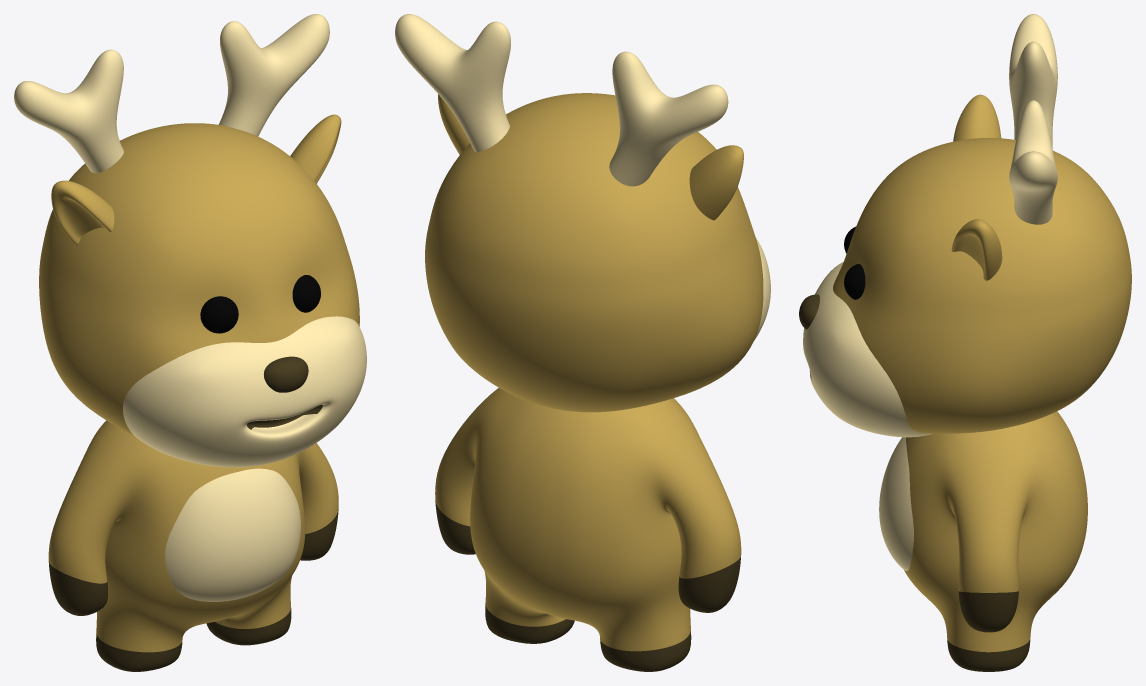
Rendered from Deer_3d.glb.
The picture shows the model from 3 angles, left to right: view 1: azimuth 30°, elevation 25°; view 2: azimuth 150°, elevation 25°; view 3: azimuth 270°, elevation 25°; orthographic projection. The views are drawn at different scales.
Visible parts, largest first — view 1: Cube.022, Cube.027, Cube.023, Cube.026, Cube.028, Cube.174, Sphere.007, Cube.025; view 2: Cube.022, Cube.027, Cube.026, Cube.174, Cube.023; view 3: Cube.022, Cube.027, Cube.023, Cube.026, Cube.174, Cube.028, Sphere.007, Cube.025.
Boxes of the visible parts, <box> form: Cube.022: <box>39,123,359,435</box>; Cube.027: <box>48,420,338,671</box>; Cube.023: <box>123,316,366,467</box>; Cube.026: <box>14,14,329,173</box>; Cube.028: <box>165,468,300,601</box>; Cube.174: <box>51,114,341,245</box>; Sphere.007: <box>200,275,320,333</box>; Cube.025: <box>263,356,308,392</box>; Cube.022: <box>425,93,763,412</box>; Cube.027: <box>435,388,741,671</box>; Cube.026: <box>395,14,728,186</box>; Cube.174: <box>438,94,743,220</box>; Cube.023: <box>754,238,770,339</box>; Cube.022: <box>833,138,1131,433</box>; Cube.027: <box>904,411,1087,671</box>; Cube.023: <box>803,262,932,437</box>; Cube.026: <box>1009,14,1057,224</box>; Cube.174: <box>951,94,1002,280</box>; Cube.028: <box>879,437,913,570</box>; Sphere.007: <box>844,226,865,299</box>; Cube.025: <box>799,294,819,329</box>.
Bounding box in the file's own units: 3.25 × 5.92 × 3.16.
